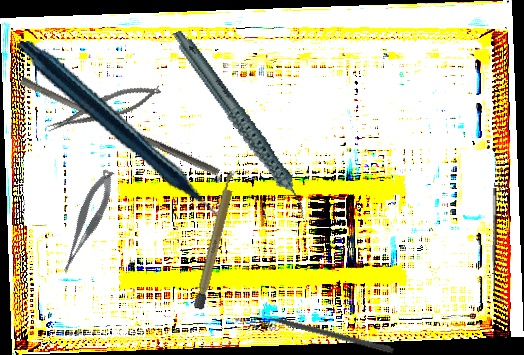Handpiece: (17, 9, 224, 264), (171, 11, 310, 238)
Hook Surgical: (489, 188, 506, 302)
Micro Scissor: (47, 165, 126, 277)
Needle Holder: (43, 78, 165, 138)
Pusher: (16, 76, 224, 177), (249, 307, 395, 355)
Scalpel Handle: (193, 168, 239, 311)
